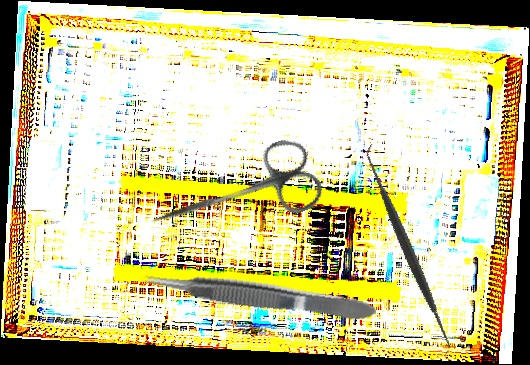Iris Scissors: (139, 132, 328, 260)
Spatula Surgical: (300, 143, 517, 356)
Tissue Forceps: (138, 262, 378, 329)
